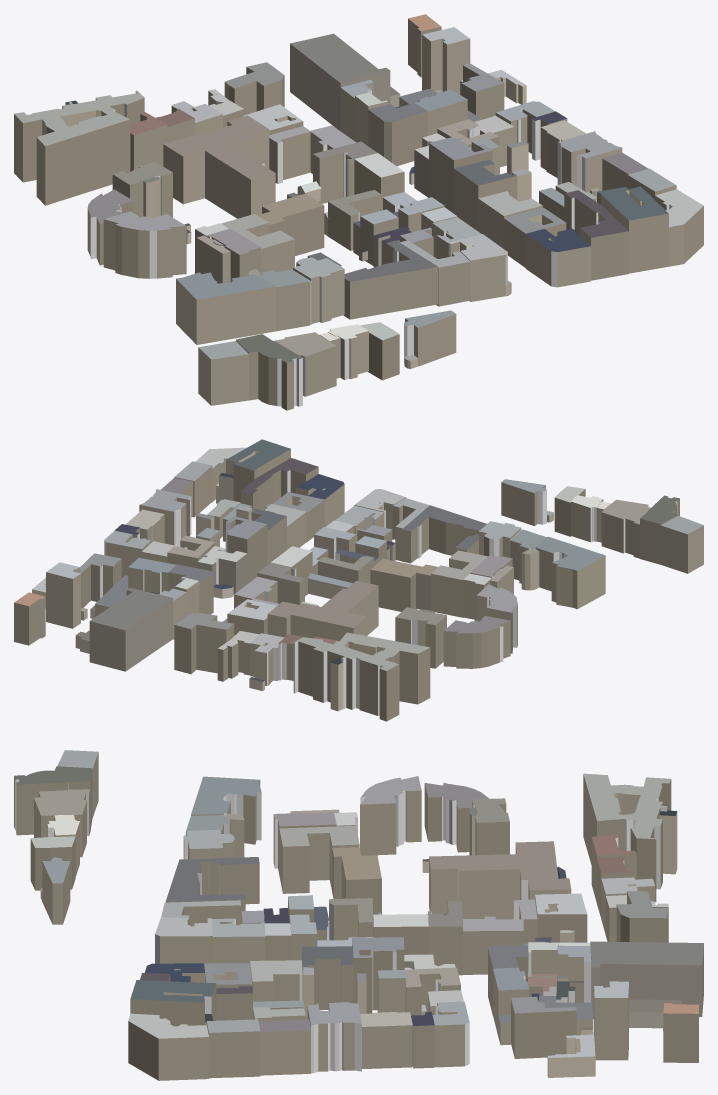
3 renders of one model, top to bottom at view 1: azimuth 30°, elevation 25°; view 2: azimuth 150°, elevation 25°; view 3: azimuth 270°, elevation 25°, orthographic. The views are drawn at different scales.
Visible parts, largest first — view 1: tuile; view 2: tuile; view 3: tuile.
Boxes of the visible parts, bbox=[...] form: tuile: bbox=[14, 14, 703, 410]; tuile: bbox=[14, 439, 703, 721]; tuile: bbox=[14, 750, 703, 1080].
Size of the model in its own units: 261 by 30.25 by 270.
